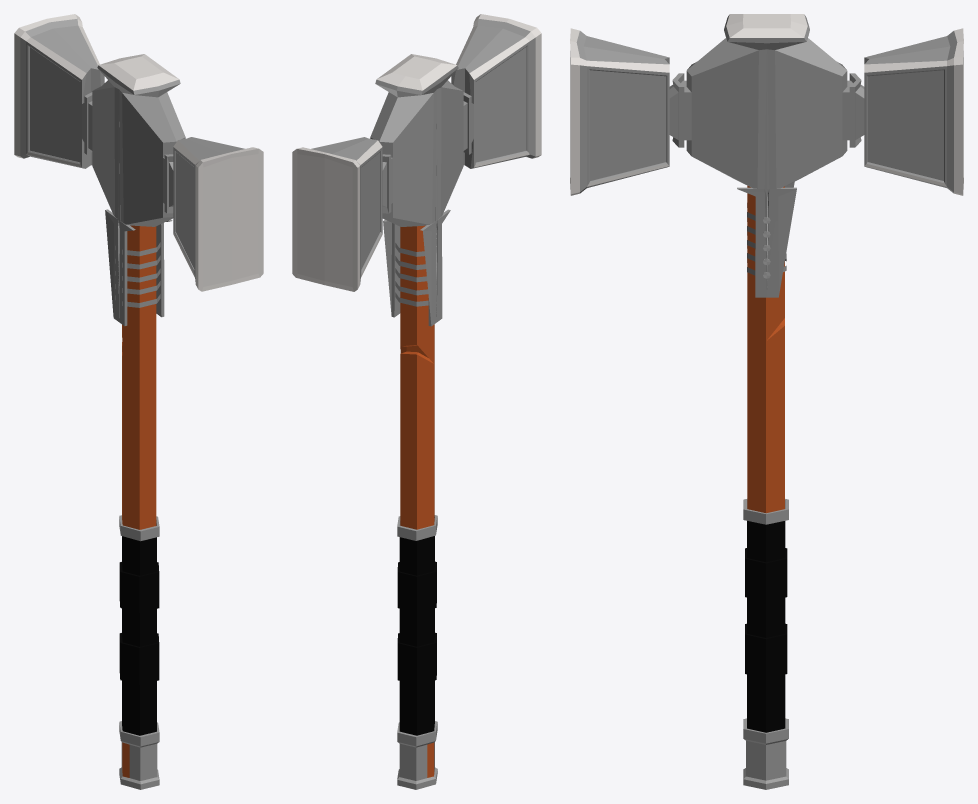
Rendered from Hammer.fbx.
3 renders of one model, left to right at view 1: azimuth 30°, elevation 25°; view 2: azimuth 150°, elevation 25°; view 3: azimuth 270°, elevation 25°, orthographic. The views are drawn at different scales.
Parts seen in each view (by area): view 1: Hammer; view 2: Hammer; view 3: Hammer.
Part boxes in pixels (x1=…): Hammer: x1=14, y1=14, x2=263, y2=789; Hammer: x1=292, y1=14, x2=541, y2=789; Hammer: x1=570, y1=14, x2=963, y2=789.
Bounding box in the file's own units: 3.62 × 37.69 × 17.73.
